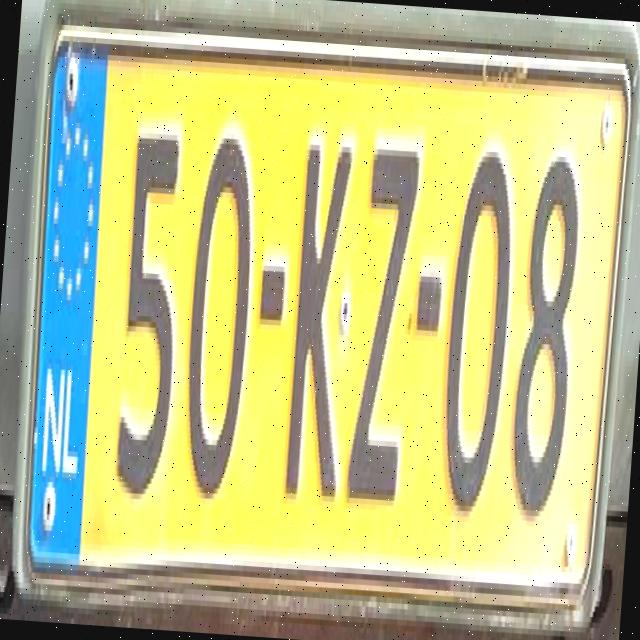EU: (23, 37, 632, 604)
Pays-Bas: (25, 36, 106, 571)
